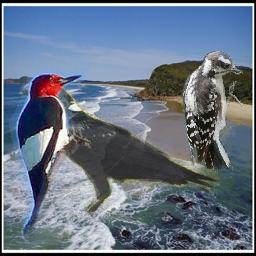Crow: (17, 79, 221, 217)
Woodpecker: (2, 62, 91, 236), (182, 51, 244, 173)
